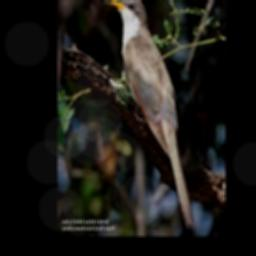Cuckoo: (105, 0, 194, 228)
